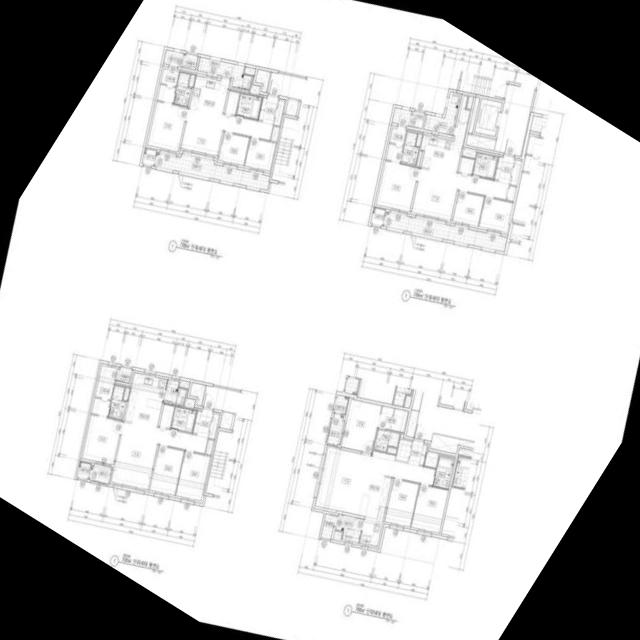background: (0, 0, 640, 640)
space_balconi: (383, 212, 507, 252), (154, 152, 269, 190), (197, 57, 252, 90), (423, 91, 460, 135), (335, 514, 363, 543), (163, 379, 186, 406), (327, 413, 344, 445), (88, 464, 111, 483), (163, 49, 183, 67)
space_bedroom: (340, 399, 381, 453), (376, 160, 418, 211), (82, 415, 122, 465), (147, 101, 187, 151), (411, 484, 448, 533), (175, 451, 210, 501), (149, 445, 184, 495), (384, 479, 419, 526), (478, 197, 512, 232), (452, 191, 483, 226), (244, 138, 275, 171), (218, 132, 249, 165)
space_dressroom: (91, 365, 116, 416), (385, 126, 406, 162), (157, 67, 178, 103), (378, 406, 407, 432)
space_elevator: (474, 98, 502, 136)
space_elevator_hall: (494, 84, 534, 156)
space_front: (192, 408, 213, 437), (494, 154, 514, 184), (258, 95, 278, 124), (407, 439, 427, 466)
space_kitchen: (420, 96, 469, 173), (359, 473, 392, 546), (124, 372, 167, 427), (189, 75, 229, 113)
space_living_room: (315, 447, 435, 516), (111, 422, 207, 489), (411, 165, 509, 220), (181, 107, 273, 155)
space_other: (391, 107, 424, 129), (465, 134, 496, 150), (320, 513, 336, 539), (468, 97, 479, 133), (405, 409, 419, 437), (189, 382, 205, 406), (224, 90, 239, 115), (395, 439, 411, 462), (255, 69, 270, 93), (159, 404, 174, 428), (208, 413, 219, 439), (510, 160, 521, 186), (458, 157, 474, 174), (219, 411, 233, 430), (274, 100, 284, 126), (182, 54, 198, 70), (116, 367, 132, 383), (285, 98, 299, 116), (424, 452, 438, 468), (506, 186, 516, 201), (462, 148, 476, 158), (270, 126, 279, 141), (205, 439, 213, 455), (249, 85, 259, 95), (244, 66, 255, 75), (188, 74, 195, 87), (416, 151, 422, 166), (184, 399, 194, 408), (415, 134, 422, 146), (122, 388, 129, 400), (333, 531, 342, 539), (466, 97, 472, 109), (178, 382, 189, 388), (387, 447, 396, 454)
space_outdoor_room: (333, 395, 348, 414), (141, 148, 156, 166), (76, 461, 91, 479)
space_toilet: (170, 406, 196, 433), (472, 152, 498, 179), (433, 456, 454, 489), (107, 385, 126, 420), (236, 93, 261, 119), (401, 131, 419, 165), (173, 72, 191, 106), (373, 429, 399, 452)
